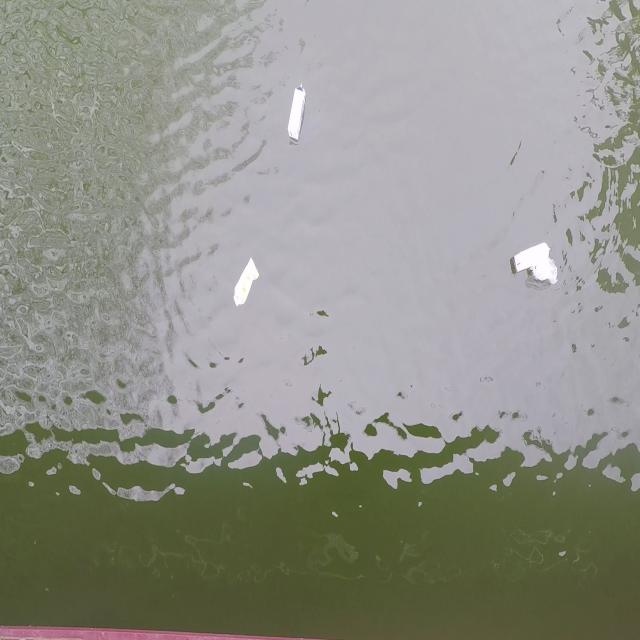Non plastique: (504, 235, 559, 276), (284, 81, 310, 147)
Sac plastique: (526, 254, 566, 293)
